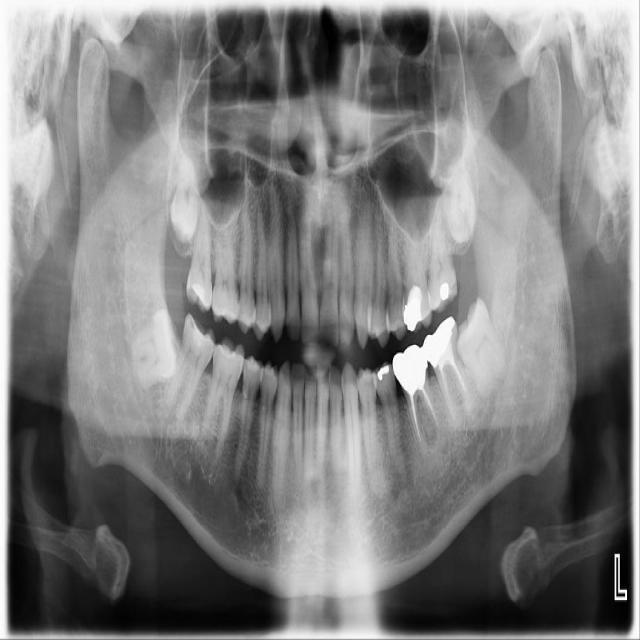3M ESPE Implant: (166, 147, 206, 245)
52: (414, 315, 474, 374), (168, 312, 227, 369), (386, 341, 439, 396), (398, 275, 435, 335), (424, 255, 459, 314), (183, 265, 216, 315), (371, 361, 399, 400), (403, 284, 412, 305)
73: (402, 380, 451, 455), (610, 562, 622, 578)
BioHorizons Implant: (425, 166, 457, 313)
BioLife Implant: (437, 152, 481, 245)
Biomet 3i Implant: (441, 296, 518, 399)
Blue Sky Bio Implant: (418, 315, 476, 423)
Caries: (185, 181, 213, 315)
Implant: (158, 312, 223, 425)
Keystone Dental Implant: (122, 307, 185, 390)
